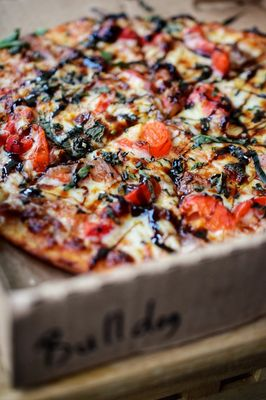sandwich: (1, 7, 266, 276)
